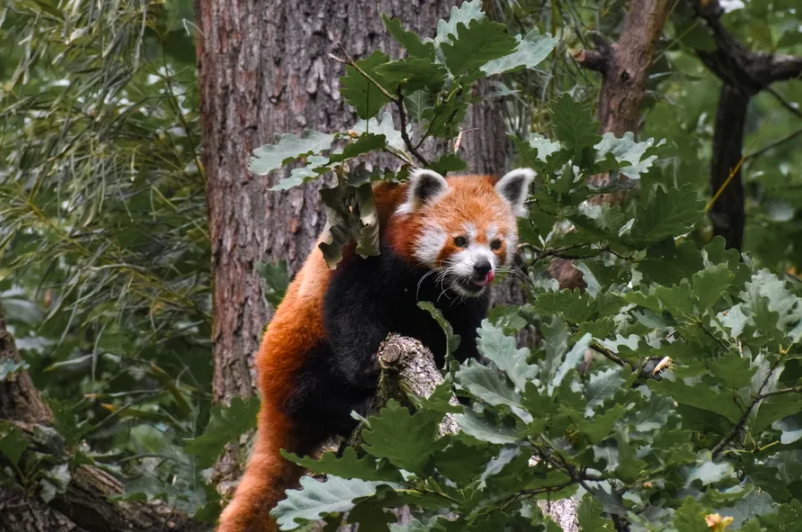red_panda: (297, 163, 553, 337)
